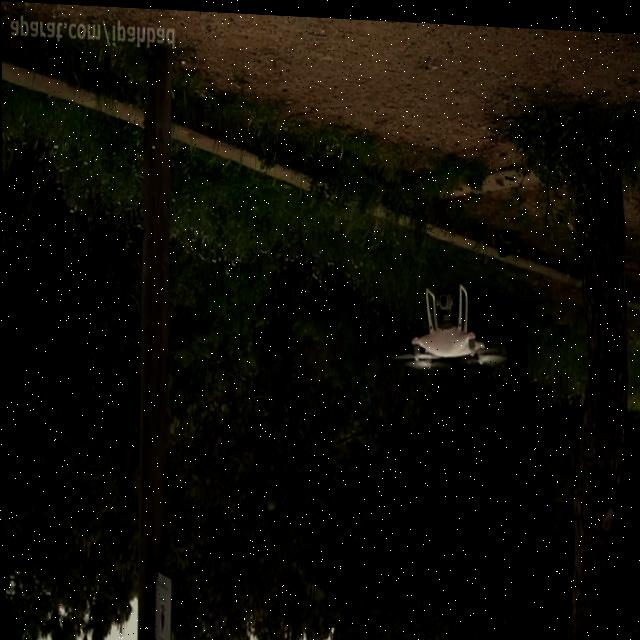drone: (389, 276, 505, 372)
